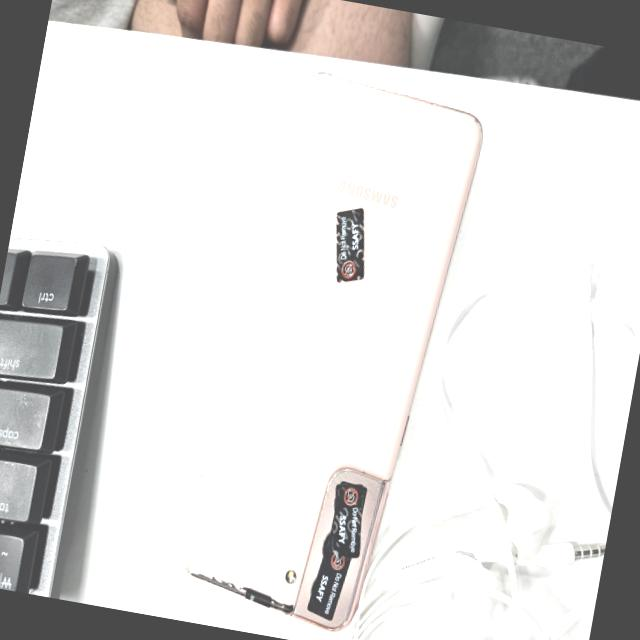phone: (168, 56, 492, 640)
removed_sticker: (328, 202, 374, 284), (325, 481, 368, 558)
sticker: (306, 550, 351, 618)
